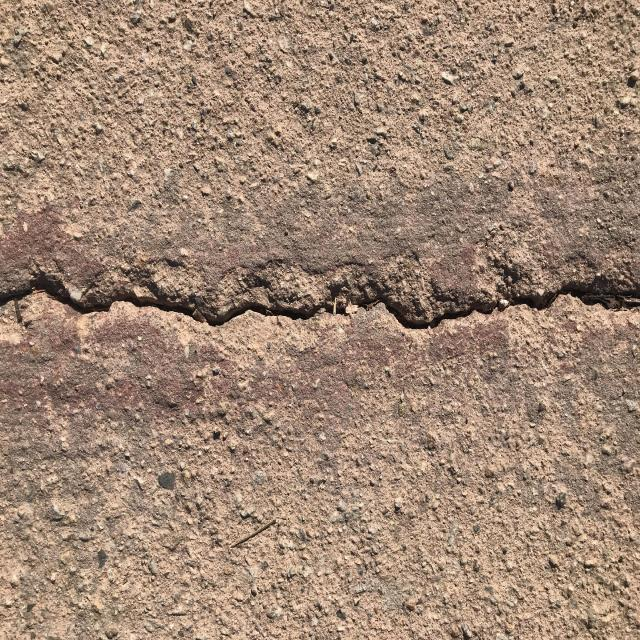SurfaceCrack: (1, 228, 640, 362)
